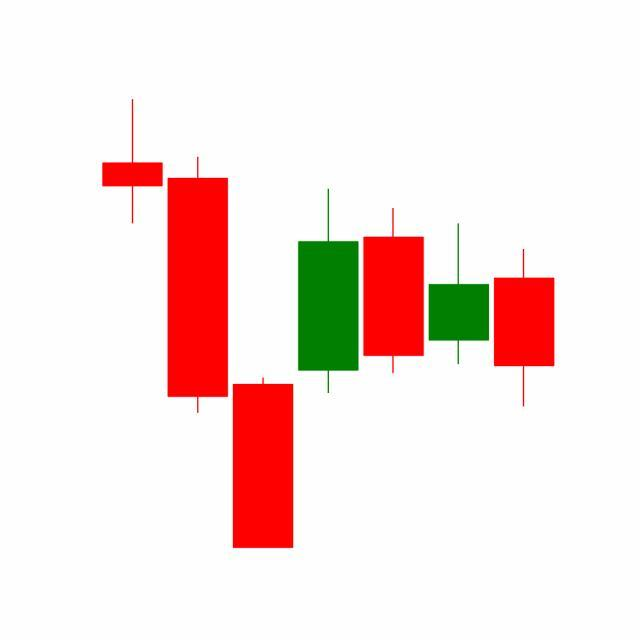Hikkake Pattern: (229, 184, 555, 548)
